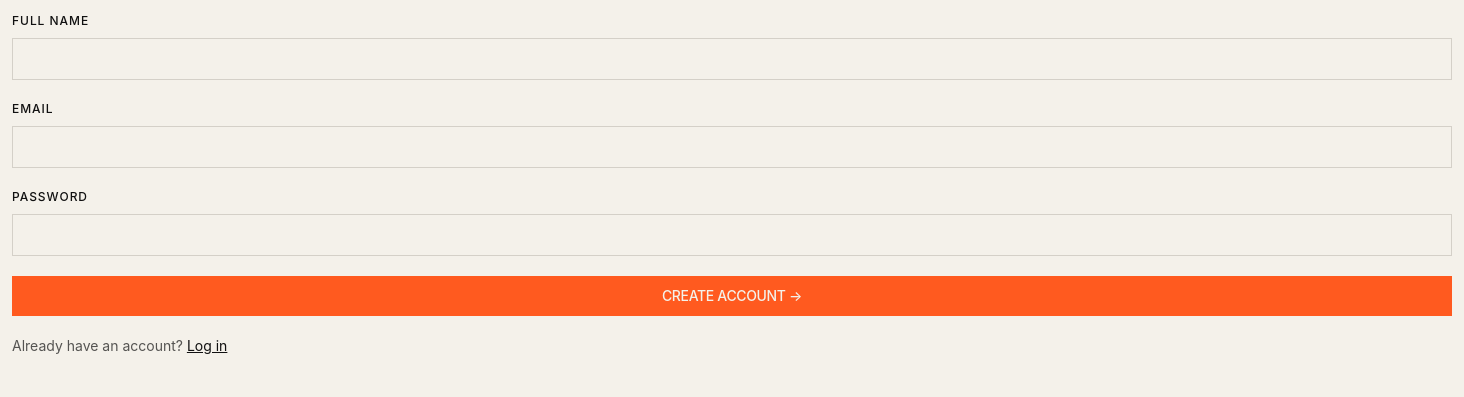
Test case: RegisterForm errors › puts "an account with this email already exists" on the email field, with no banner repeating it
The width and height of the screenshot is (1464, 397).
Type "Riya Kapoor" into the field labelled "Full name" at [732, 59], box [12,38,1452,80]
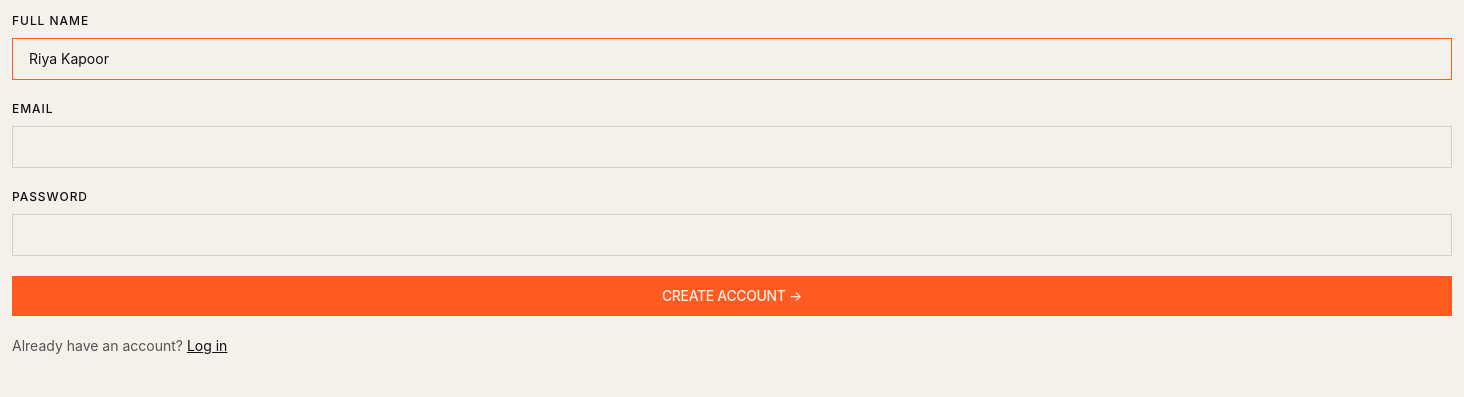
Type "riya@example.com" into the field labelled "Email" at [732, 147], box [12,126,1452,168]
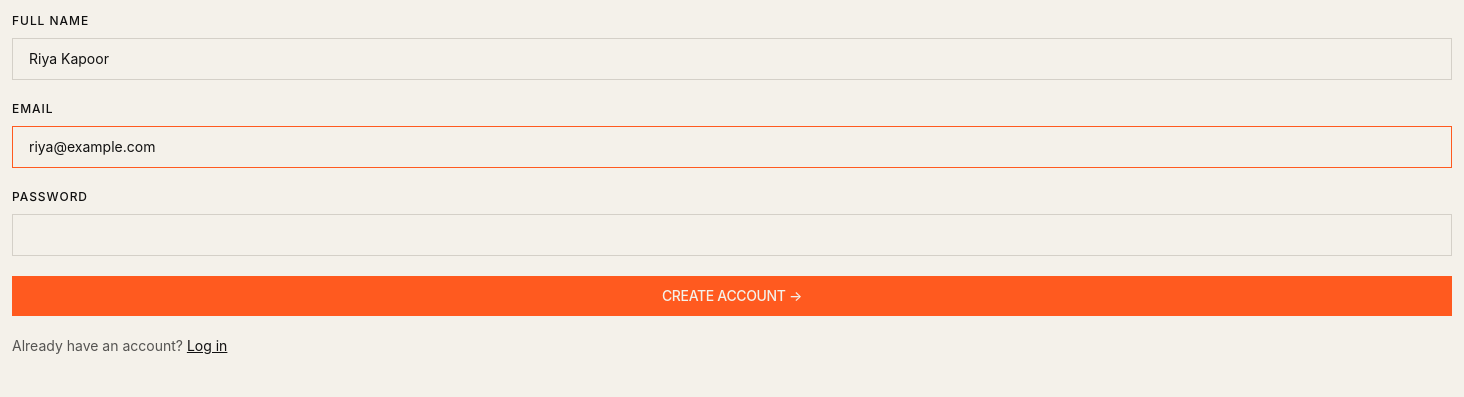
Type "Test@1234" into the password field labelled "Password" at [732, 235], box [12,214,1452,256]
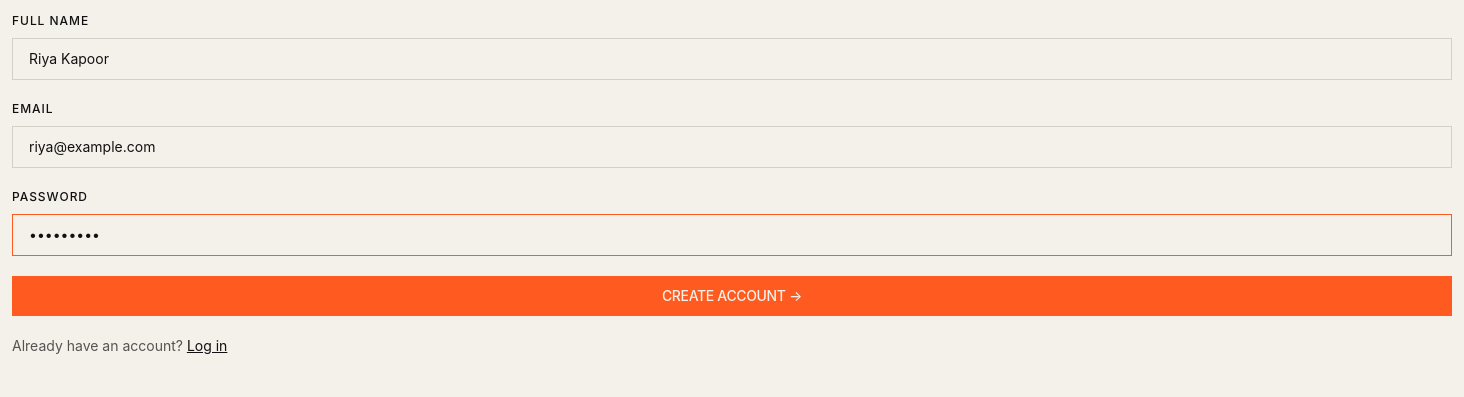
Click the button "CREATE ACCOUNT →" at [732, 296], box [12,276,1452,316]
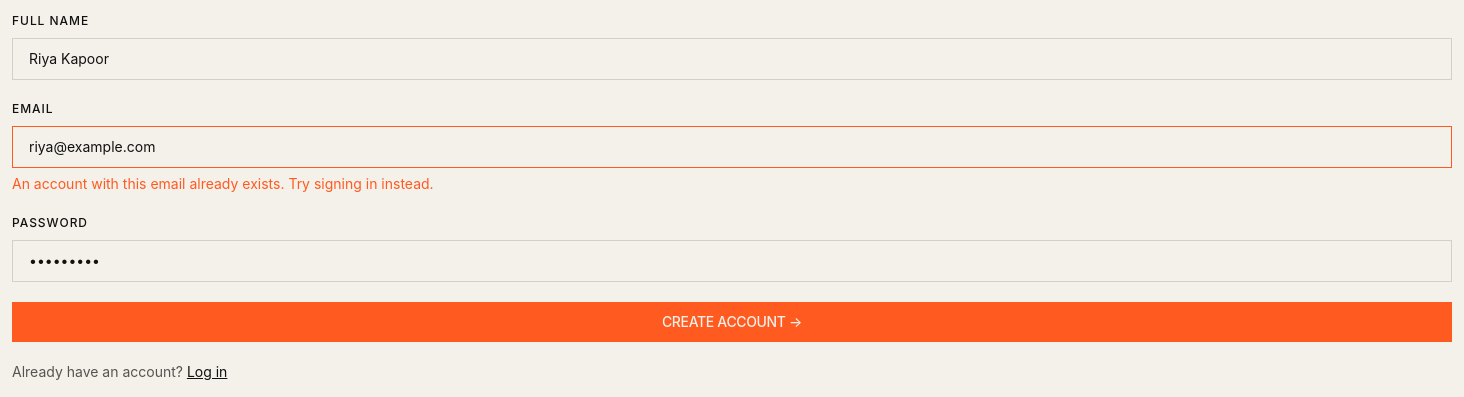
Expected: the text "An account with this email already exists. Try signing in instead." is shown once, [12,175,434,192]
